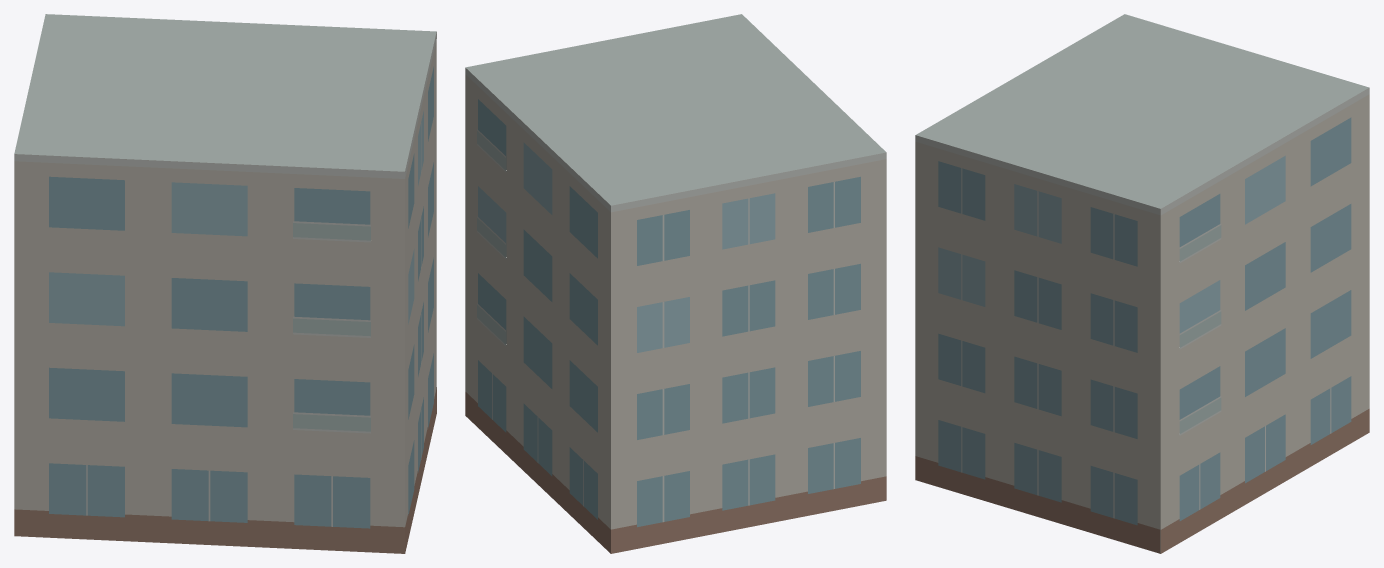
Rendered from survey-upis-32952061.glb.
3 renders of one model, left to right at view 1: azimuth 30°, elevation 25°; view 2: azimuth 150°, elevation 25°; view 3: azimuth 270°, elevation 25°, orthographic. The views are drawn at different scales.
Visible parts, largest first — view 1: survey-upis-32952061.tmp; view 2: survey-upis-32952061.tmp; view 3: survey-upis-32952061.tmp.
Part boxes in pixels (x1=…): survey-upis-32952061.tmp: x1=14, y1=14, x2=436, y2=553; survey-upis-32952061.tmp: x1=465, y1=14, x2=886, y2=553; survey-upis-32952061.tmp: x1=915, y1=14, x2=1369, y2=553.
Bounding box in the file's own units: 15.52 × 12.8 × 15.28.
